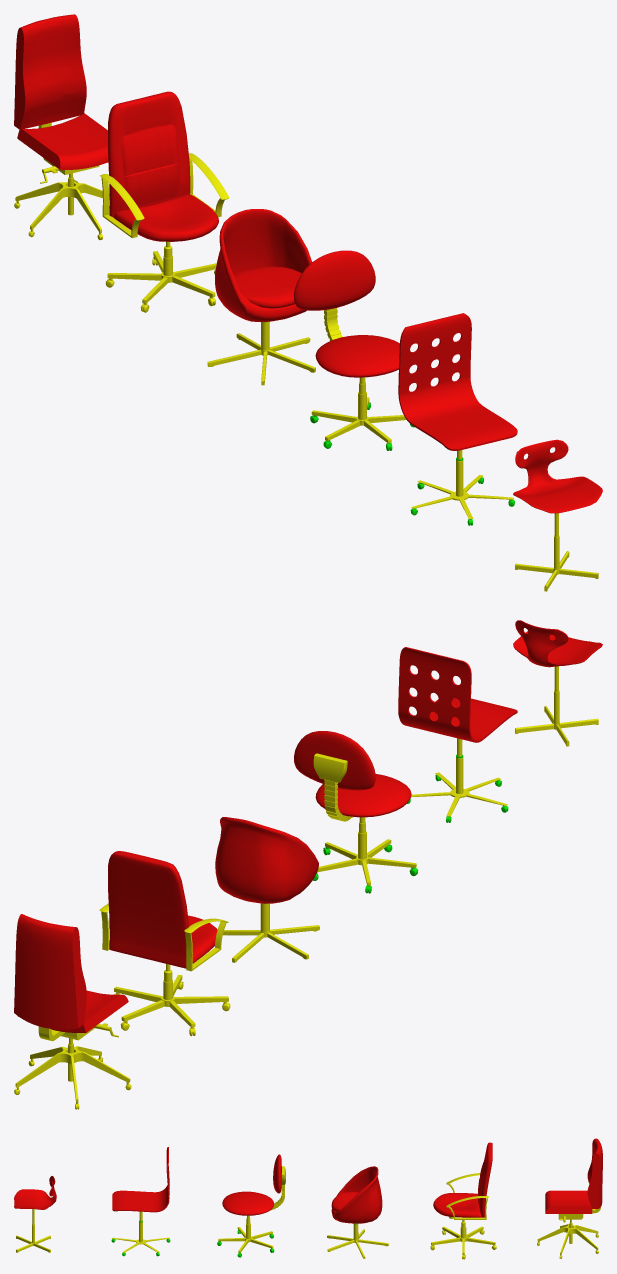
The model's file is RoboTHOR_office_chairs_grp.fbx.
3 renders of one model, top to bottom at view 1: azimuth 30°, elevation 25°; view 2: azimuth 150°, elevation 25°; view 3: azimuth 270°, elevation 25°, orthographic. The views are drawn at different scales.
Visible parts, largest first — view 1: robothor_office_chair_allak, robothor_office_chair_volmar, robothor_office_chair_jules, robothor_office_chair_skruvsta, robothor_office_chair_sevnning, robothor_office_chair_molte; view 2: robothor_office_chair_allak, robothor_office_chair_volmar, robothor_office_chair_sevnning, robothor_office_chair_skruvsta, robothor_office_chair_jules, robothor_office_chair_molte; view 3: robothor_office_chair_volmar, robothor_office_chair_skruvsta, robothor_office_chair_allak, robothor_office_chair_sevnning, robothor_office_chair_jules, robothor_office_chair_molte.
Boxes of the visible parts, left/top/right/bottom form: robothor_office_chair_allak: left=100, top=91, right=229, bottom=312; robothor_office_chair_volmar: left=14, top=14, right=109, bottom=240; robothor_office_chair_jules: left=398, top=313, right=517, bottom=525; robothor_office_chair_skruvsta: left=207, top=209, right=315, bottom=385; robothor_office_chair_sevnning: left=293, top=250, right=414, bottom=450; robothor_office_chair_molte: left=513, top=439, right=602, bottom=591; robothor_office_chair_allak: left=99, top=851, right=230, bottom=1036; robothor_office_chair_volmar: left=14, top=914, right=131, bottom=1109; robothor_office_chair_sevnning: left=294, top=731, right=418, bottom=893; robothor_office_chair_skruvsta: left=215, top=817, right=319, bottom=962; robothor_office_chair_jules: left=398, top=647, right=517, bottom=822; robothor_office_chair_molte: left=513, top=620, right=602, bottom=746; robothor_office_chair_volmar: left=537, top=1138, right=602, bottom=1258; robothor_office_chair_skruvsta: left=327, top=1166, right=388, bottom=1258; robothor_office_chair_allak: left=430, top=1142, right=496, bottom=1259; robothor_office_chair_sevnning: left=217, top=1154, right=285, bottom=1257; robothor_office_chair_jules: left=111, top=1147, right=170, bottom=1256; robothor_office_chair_molte: left=14, top=1176, right=56, bottom=1252.
Size of the model in its own units: 62.67 by 103 by 548.
